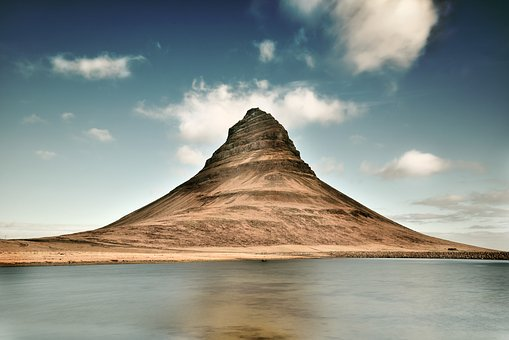lake: (4, 262, 508, 335)
mountain: (43, 119, 473, 254)
sky: (1, 2, 504, 157)
